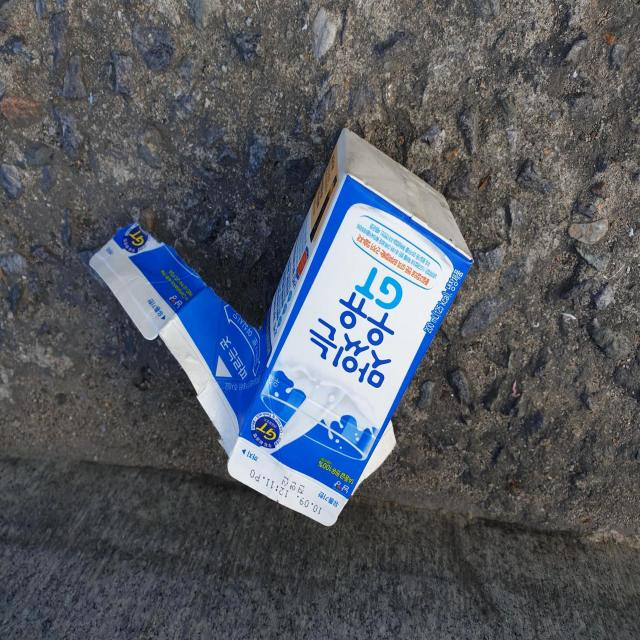paperpack: (90, 128, 474, 526)
